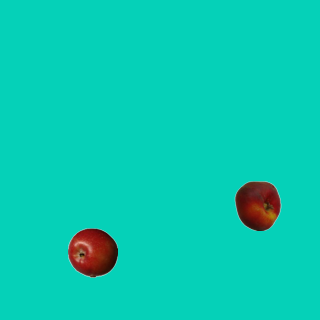Apple Braeburn: (67, 227, 117, 277)
Nectarine Flat: (232, 180, 282, 230)
